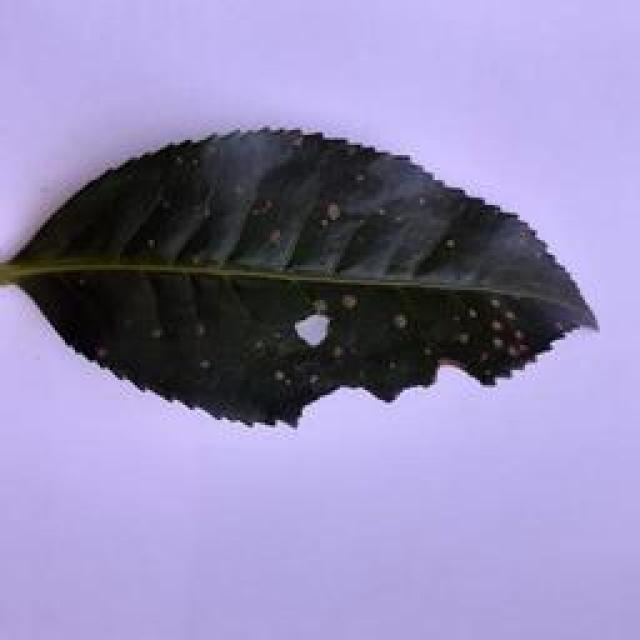Algal Leaf Spot: (0, 126, 593, 436)
